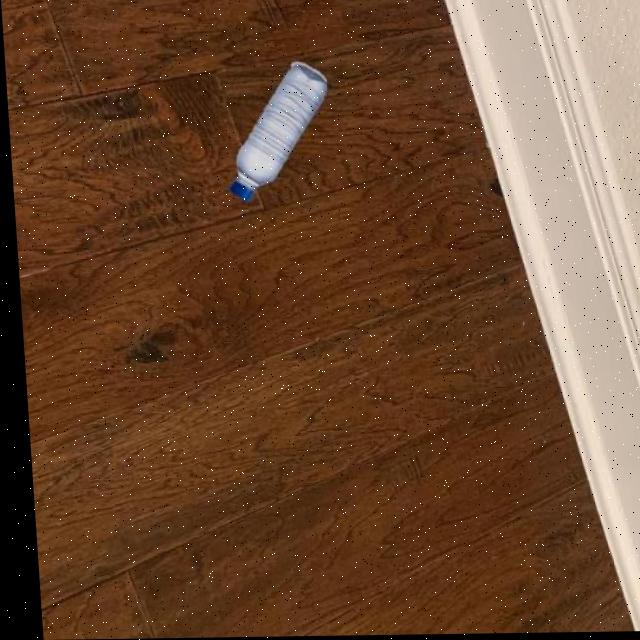bottle: (218, 60, 335, 204)
